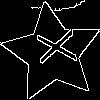X: (27, 28, 77, 68)
